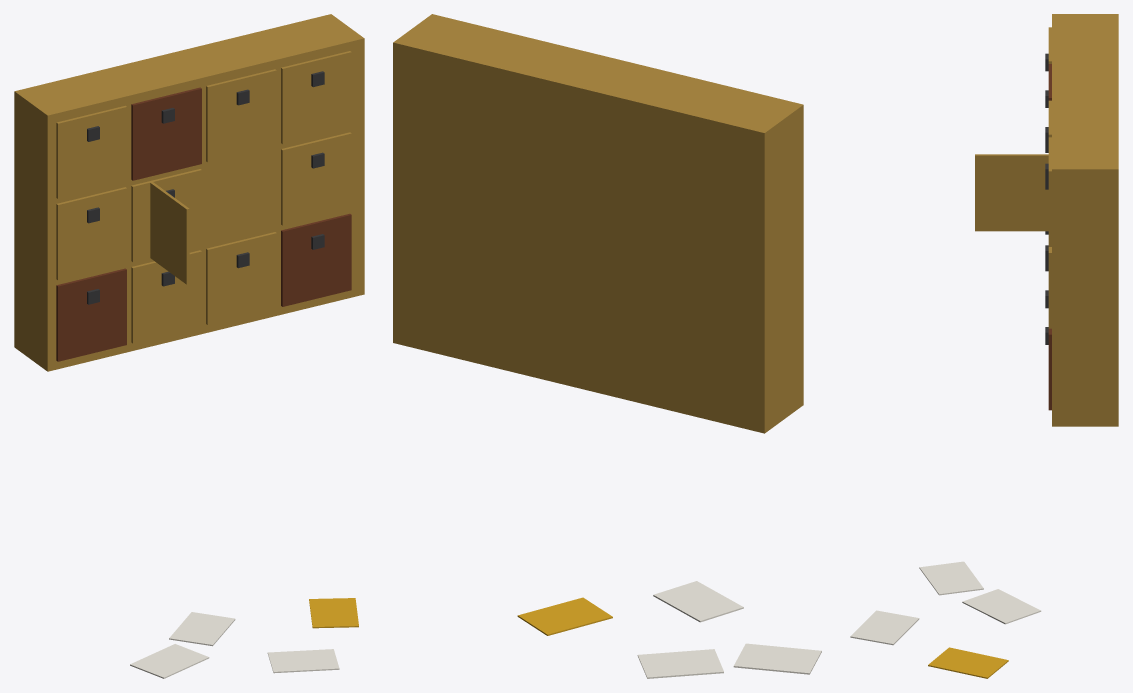
File: mailboxes.glb
3 views of the same model, side by side, from view 1: azimuth 30°, elevation 25°; view 2: azimuth 150°, elevation 25°; view 3: azimuth 270°, elevation 25° (orthographic). The views are drawn at different scales.
Parts seen in each view (by area): view 1: mailboxes; view 2: mailboxes; view 3: mailboxes.
Part boxes in pixels (<box>): mailboxes: <box>14,14,364,678</box>; mailboxes: <box>393,14,821,678</box>; mailboxes: <box>850,14,1118,678</box>.
Bounding box in the file's own units: 1.1 × 1.75 × 0.8034.
1 material, 1 textured.
